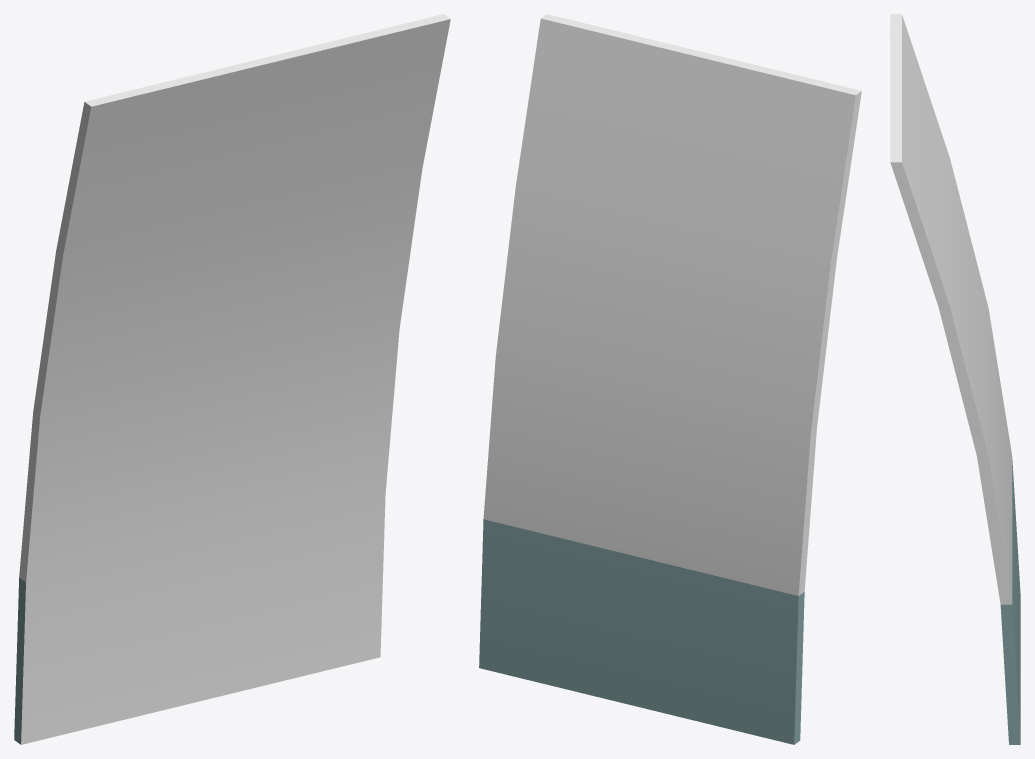
The model's file is wall_3m_tall.fbx.
3 views of the same model, side by side, from view 1: azimuth 30°, elevation 25°; view 2: azimuth 150°, elevation 25°; view 3: azimuth 270°, elevation 25° (orthographic). The views are drawn at different scales.
Visible parts, largest first — view 1: wall_3m; view 2: wall_3m; view 3: wall_3m.
Boxes of the visible parts, left/top/right/bottom form: wall_3m: left=14, top=14, right=450, bottom=744; wall_3m: left=479, top=14, right=861, bottom=744; wall_3m: left=890, top=14, right=1020, bottom=744.
Bounding box in the file's own units: 300 × 550 × 112.
